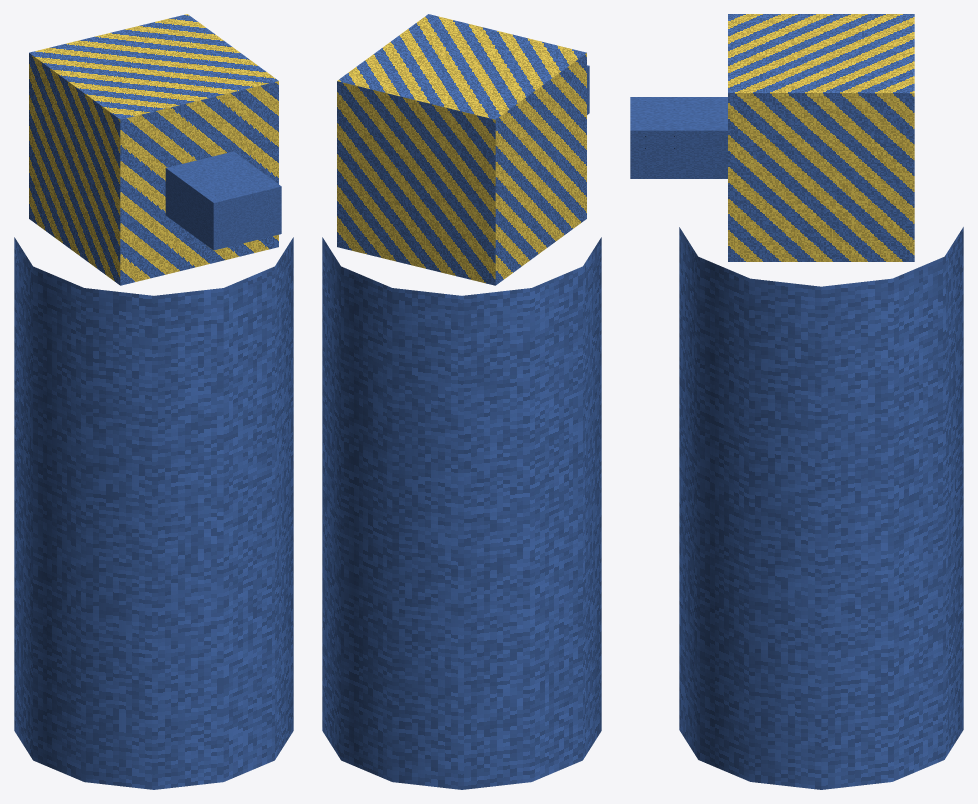
3 views of the same model, side by side, from view 1: azimuth 30°, elevation 25°; view 2: azimuth 150°, elevation 25°; view 3: azimuth 270°, elevation 25° (orthographic).
Visible parts, largest first — view 1: player_body; view 2: player_body; view 3: player_body.
Boxes of the visible parts, x1,y1,x2,y2 form: player_body: (14,14,293,789); player_body: (322,14,601,789); player_body: (630,14,963,789).
Size of the model in its own units: 0.64 by 1.68 by 0.75.
3 materials, 3 textured.
